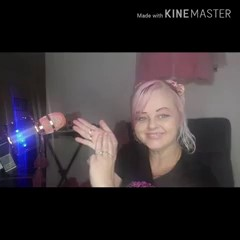M: (72, 116, 124, 190)
